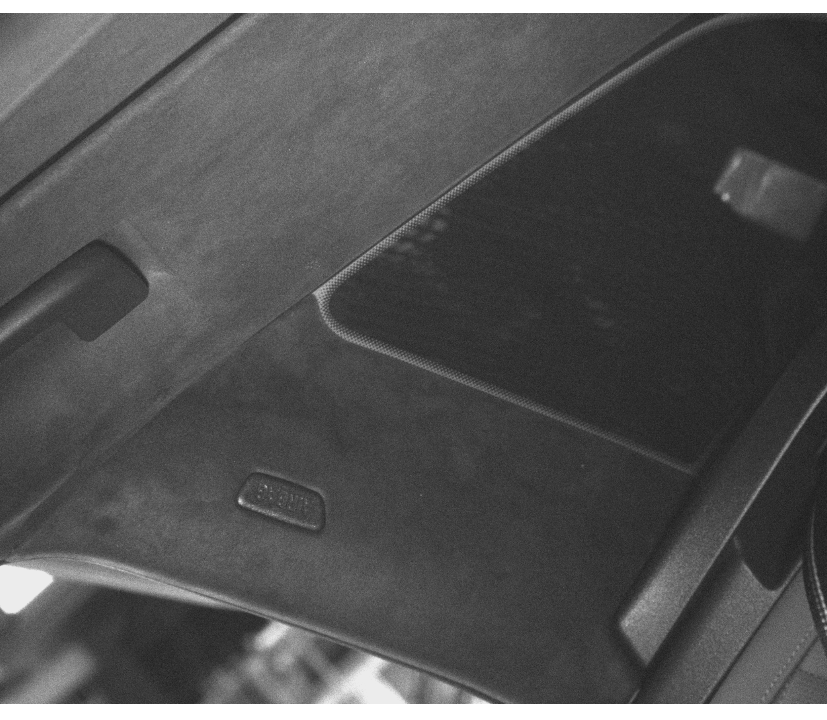camerafault: (210, 458, 348, 537)
